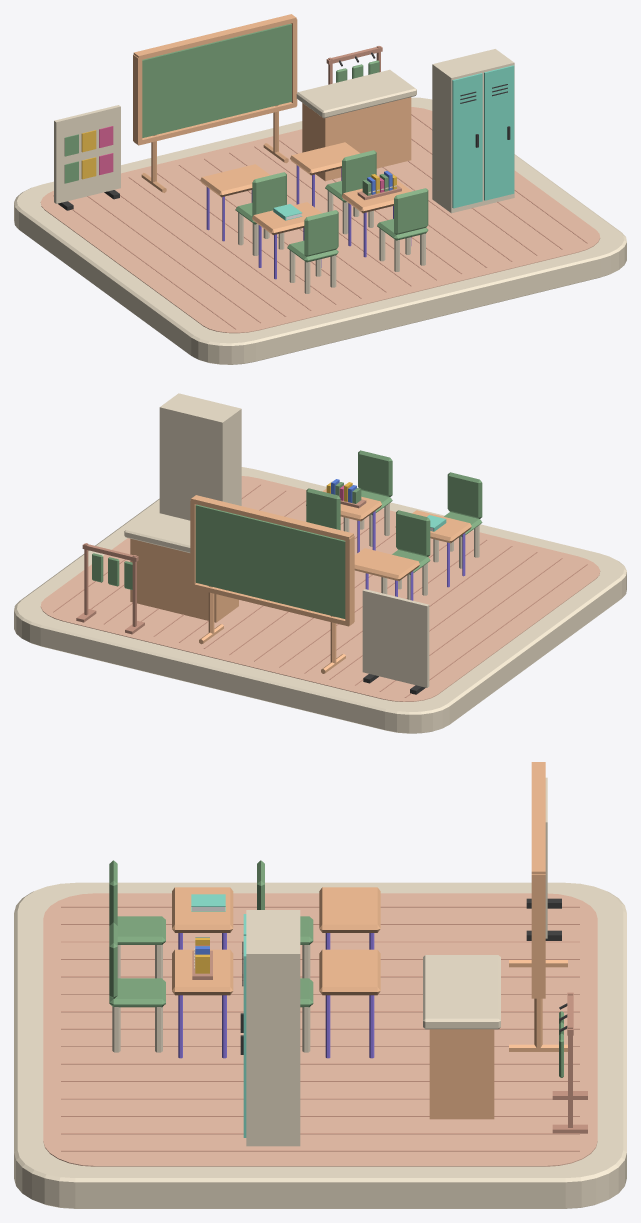
3 renders of one model, top to bottom at view 1: azimuth 30°, elevation 25°; view 2: azimuth 150°, elevation 25°; view 3: azimuth 270°, elevation 25°, orthographic. The views are drawn at different scales.
Visible parts, largest first — view 1: COM-02 Floor Surface, COM-01 Rounded Base Direct, Board, Desk body, Case, Panel, Door.001, Door, Desk top, Rail.001, Backrest, Backrest.001 (+9 smaller); view 2: COM-02 Floor Surface, COM-01 Rounded Base Direct, Board, Case, Panel, Desk body, Desk top, Rail.001, Backrest, Rounded table top.002, Backrest.001, Backrest.002 (+6 smaller); view 3: COM-02 Floor Surface, COM-01 Rounded Base Direct, Case, Desk body, Desk top, Rounded table top.003, Rounded table top.002, Rounded table top, Rounded table top.001, Frame.001, Rail.001, Seat.001 (+11 smaller).
Part boxes in pixels (x1,y1,x2,y2): COM-02 Floor Surface: (40, 107, 600, 333); COM-01 Rounded Base Direct: (14, 97, 626, 364); Board: (142, 23, 291, 137); Desk body: (302, 97, 411, 181); Case: (432, 49, 514, 213); Panel: (54, 105, 120, 203); Door.001: (484, 65, 514, 200); Door: (452, 73, 482, 208); Desk top: (296, 69, 416, 118); Rail.001: (133, 14, 296, 60); Backrest: (304, 210, 338, 256); Backrest.001: (394, 188, 428, 234); COM-02 Floor Surface: (40, 476, 600, 701); COM-01 Rounded Base Direct: (14, 467, 626, 733); Board: (195, 504, 345, 618); Case: (159, 393, 241, 520); Panel: (362, 589, 429, 687); Desk body: (130, 538, 238, 622); Desk top: (124, 511, 190, 552); Rail.001: (191, 495, 353, 540); Backrest: (447, 472, 482, 518); Rounded table top.002: (354, 548, 419, 580); Backrest.001: (358, 450, 392, 496); Backrest.002: (396, 510, 430, 556); COM-02 Floor Surface: (43, 893, 597, 1166); COM-01 Rounded Base Direct: (14, 882, 626, 1208); Case: (246, 910, 300, 1146); Desk body: (429, 1029, 494, 1119); Desk top: (423, 955, 500, 1029); Rounded table top.003: (319, 949, 380, 995); Rounded table top.002: (319, 887, 380, 932); Rounded table top: (172, 887, 233, 932); Rounded table top.001: (172, 949, 233, 995); Frame.001: (531, 874, 545, 997); Rail.001: (531, 762, 545, 874); Seat.001: (109, 978, 165, 1007).
Size of the model in its own units: 6 by 2.1 by 5.2.
Materials: 1 (1 with a texture image).
